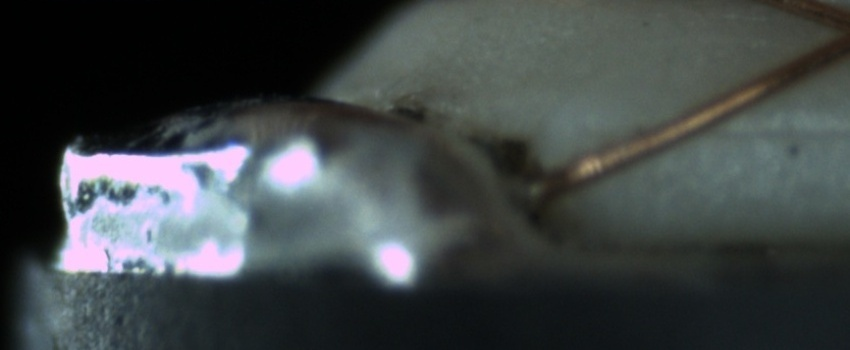CL: (805, 1, 850, 66)
DL: (691, 100, 848, 160)
